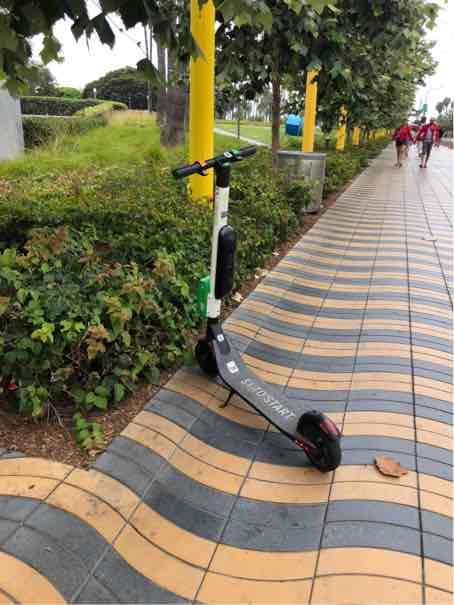scooter: (163, 145, 343, 468)
